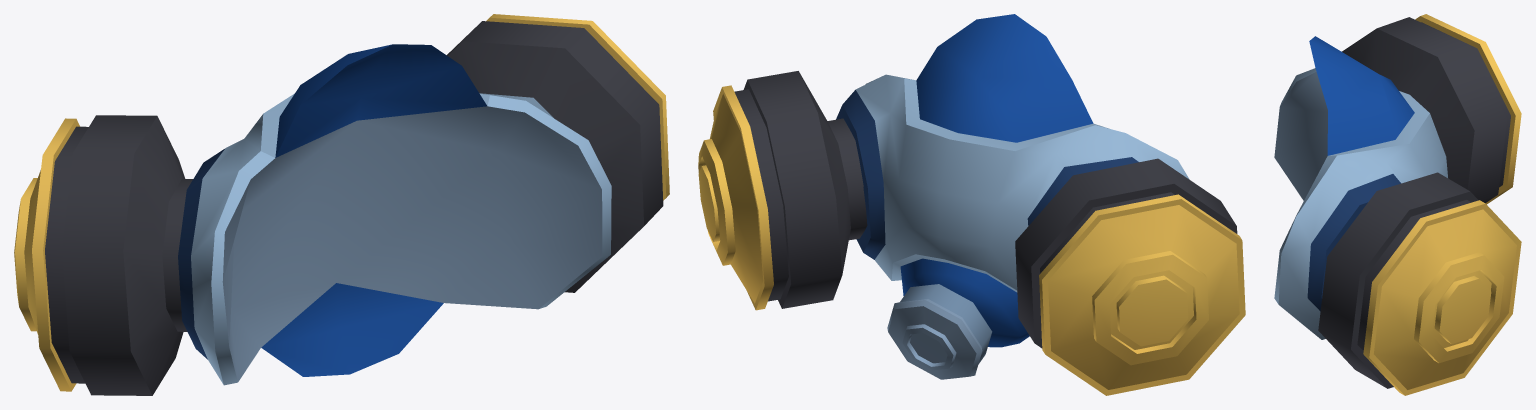
The model's file is IG_FackMask_GasMask_01.fbx.
3 views of the same model, side by side, from view 1: azimuth 30°, elevation 25°; view 2: azimuth 150°, elevation 25°; view 3: azimuth 270°, elevation 25° (orthographic). The views are drawn at different scales.
Visible parts, largest first — view 1: GasMask01; view 2: GasMask01; view 3: GasMask01.
Boxes of the visible parts, left/top/right/bottom form: GasMask01: left=14, top=14, right=669, bottom=395; GasMask01: left=698, top=14, right=1245, bottom=395; GasMask01: left=1274, top=14, right=1521, bottom=395.
Bounding box in the file's own units: 0.6327 × 0.358 × 0.2762.
